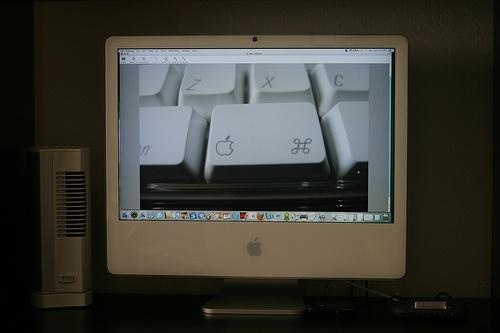tvmonitor: (105, 32, 409, 321)
